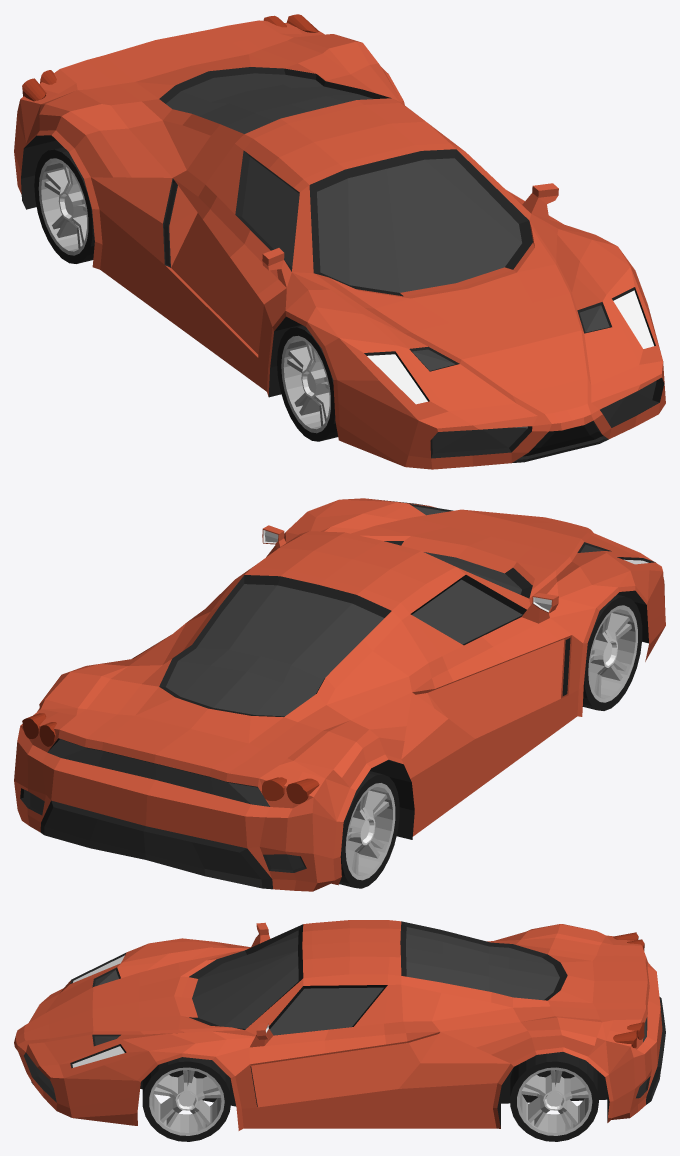
File: ferrarienzo.fbx
3 renders of one model, top to bottom at view 1: azimuth 30°, elevation 25°; view 2: azimuth 150°, elevation 25°; view 3: azimuth 270°, elevation 25°, orthographic. The views are drawn at different scales.
Parts seen in each view (by area): view 1: RedBody, BackRight, FrontRight; view 2: RedBody, BackRight, FrontRight; view 3: RedBody, BackLeft, FrontLeft.
Part boxes in pixels (x1,y1,x2,y2): RedBody: (14,14,665,469); BackRight: (34,147,94,263); FrontRight: (277,325,337,441); RedBody: (14,498,665,891); BackRight: (339,771,399,888); FrontRight: (582,594,642,710); RedBody: (14,920,665,1130); BackLeft: (510,1052,598,1141); FrontLeft: (142,1057,231,1141).
Bounding box in the file's own units: 2.02 × 4.71 × 1.14.
